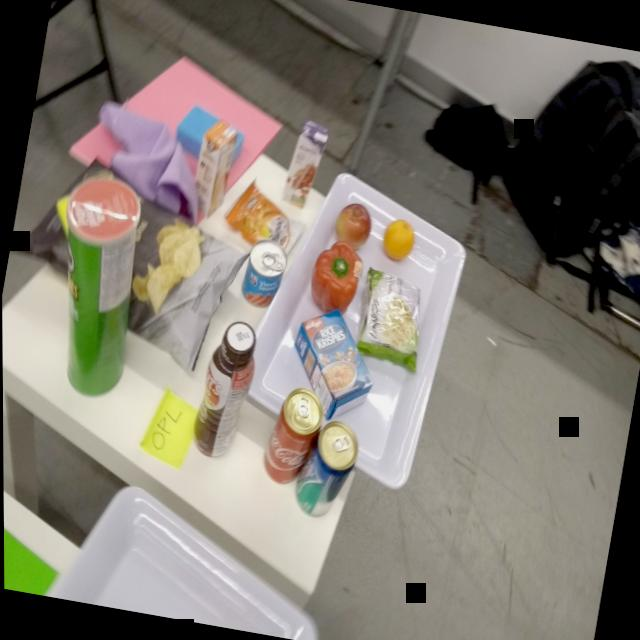apple: (329, 199, 375, 256)
cereal: (276, 301, 386, 431)
chocolate_drink: (185, 314, 265, 465)
coke: (256, 385, 328, 494)
crackers: (215, 174, 311, 264)
grape_juice: (272, 113, 335, 215)
orange: (376, 215, 420, 267)
orange_juice: (186, 115, 241, 221)
paprika: (303, 236, 367, 322)
pringles: (32, 171, 157, 404)
sausages: (235, 240, 291, 310)
sprite: (285, 412, 367, 530)
